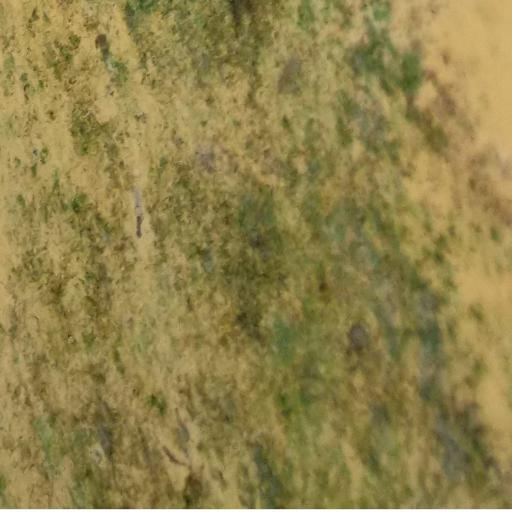algae: (65, 90, 512, 512)
